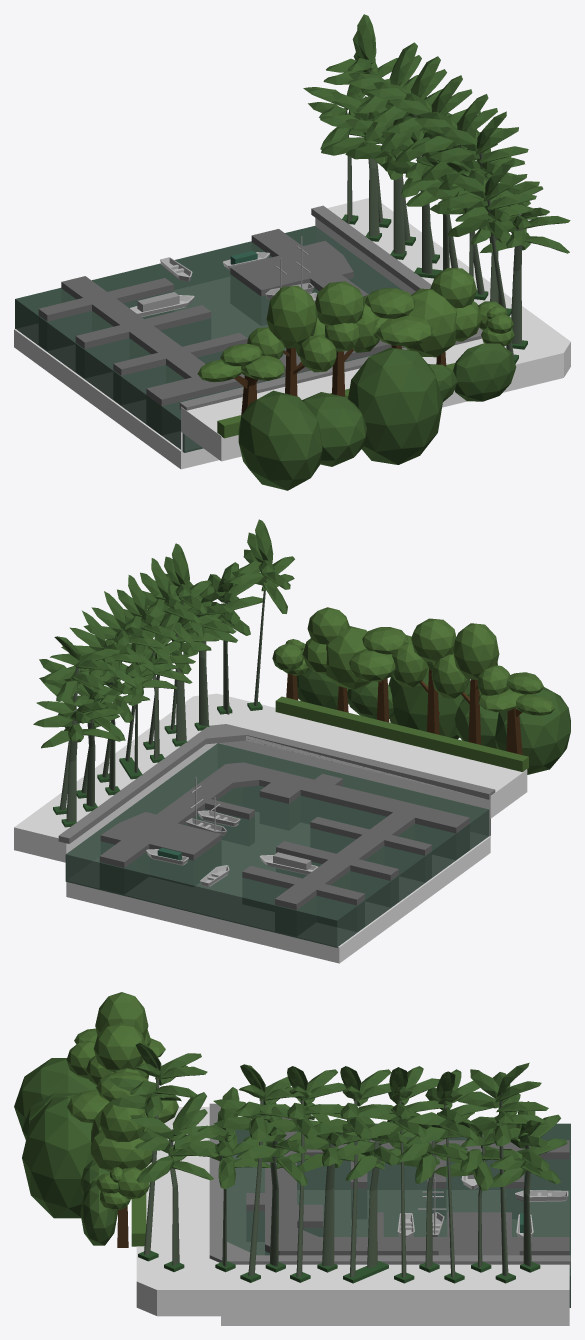
The model's file is PuretiHarbour.fbx.
3 renders of one model, top to bottom at view 1: azimuth 30°, elevation 25°; view 2: azimuth 150°, elevation 25°; view 3: azimuth 270°, elevation 25°, orthographic. The views are drawn at different scales.
Parts seen in each view (by area): view 1: Tree.002, Cylinder.015, Cube.001, Cube, Cube.003, Cube.006; view 2: Cube.001, Tree.002, Cube, Cylinder.015, Cube.003, Cube.006, Cube.005; view 3: Cylinder.015, Cube, Tree.002, Cube.001, Cube.003, Cube.007.
Part boxes in pixels (x1,y1,x2,y2): Tree.002: (197,267,516,490); Cylinder.015: (303,14,570,363); Cube.001: (15,226,404,452); Cube: (14,198,570,469); Cube.003: (38,229,403,405); Cube.006: (130,292,194,316); Cube.001: (65,743,490,947); Tree.002: (272,607,570,774); Cube: (14,693,527,963); Cylinder.015: (33,519,294,827); Cube.003: (99,762,469,909); Cube.006: (260,852,317,874); Cube.005: (186,777,226,835); Cylinder.015: (109,1043,567,1283); Cube: (136,1103,570,1325); Tree.002: (14,992,178,1247); Cube.001: (227,1123,570,1307); Cube.003: (246,1117,569,1255); Cube.007: (515,1190,568,1201).
Size of the model in its own units: 6495 by 4273 by 7715.
